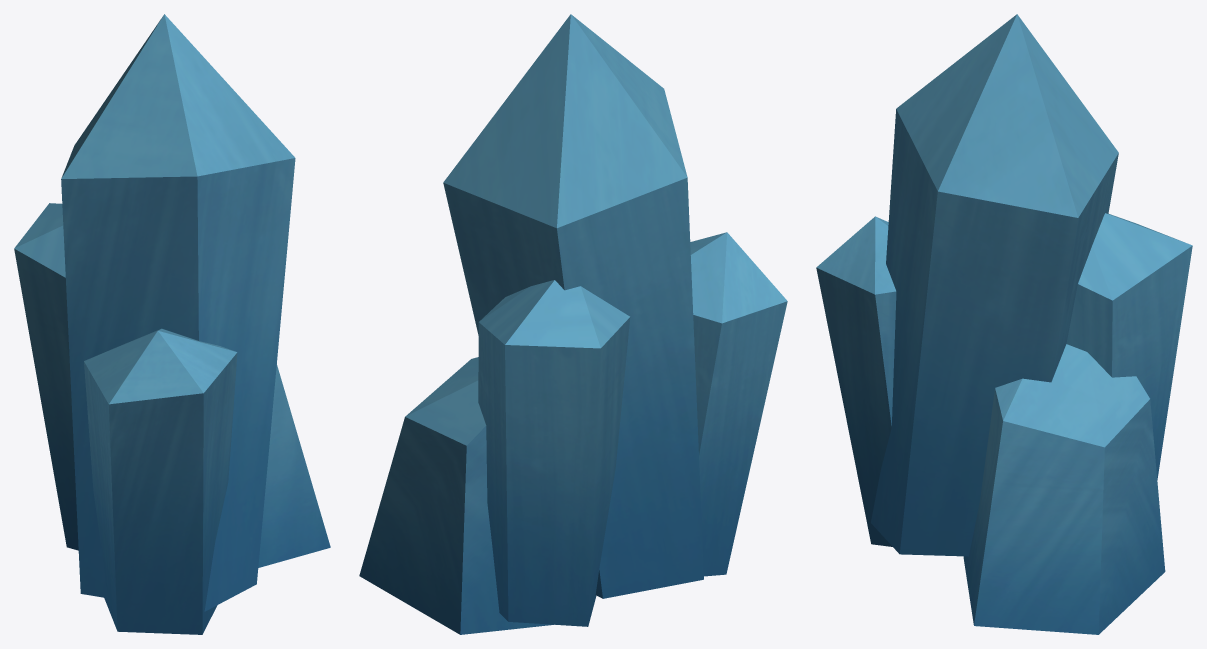
File: Crtystal_2.FBX
3 renders of one model, left to right at view 1: azimuth 30°, elevation 25°; view 2: azimuth 150°, elevation 25°; view 3: azimuth 270°, elevation 25°, orthographic. The views are drawn at different scales.
Parts seen in each view (by area): view 1: Cylinder003; view 2: Cylinder003; view 3: Cylinder003.
Boxes of the visible parts, x1,y1,x2,y2 form: Cylinder003: (14,14,330,634); Cylinder003: (359,14,787,634); Cylinder003: (816,14,1192,634).
Size of the model in its own units: 26.49 by 47.74 by 29.74.
